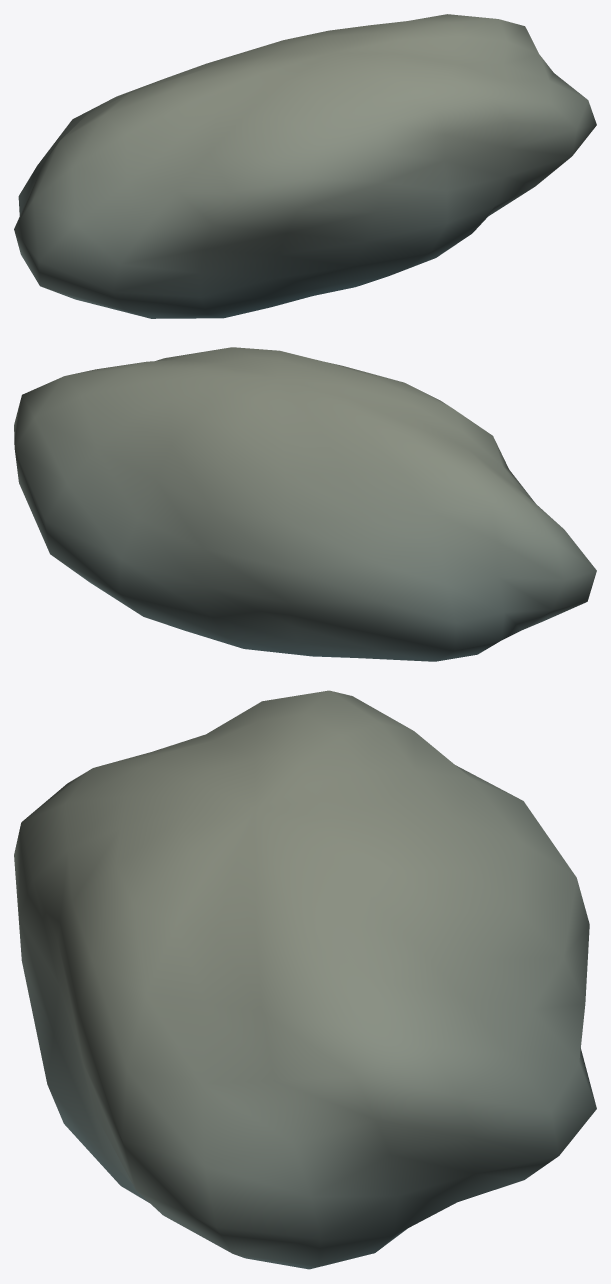
The model's file is stone-ridge.glb.
3 renders of one model, top to bottom at view 1: azimuth 30°, elevation 25°; view 2: azimuth 150°, elevation 25°; view 3: azimuth 270°, elevation 25°, orthographic. The views are drawn at different scales.
Parts seen in each view (by area): view 1: stone-ridge; view 2: stone-ridge; view 3: stone-ridge.
Boxes of the visible parts, bbox=[...] form: stone-ridge: bbox=[14, 14, 596, 318]; stone-ridge: bbox=[14, 347, 596, 661]; stone-ridge: bbox=[14, 690, 596, 1269].
Bounding box in the file's own units: 2.94 × 1.16 × 1.59.
